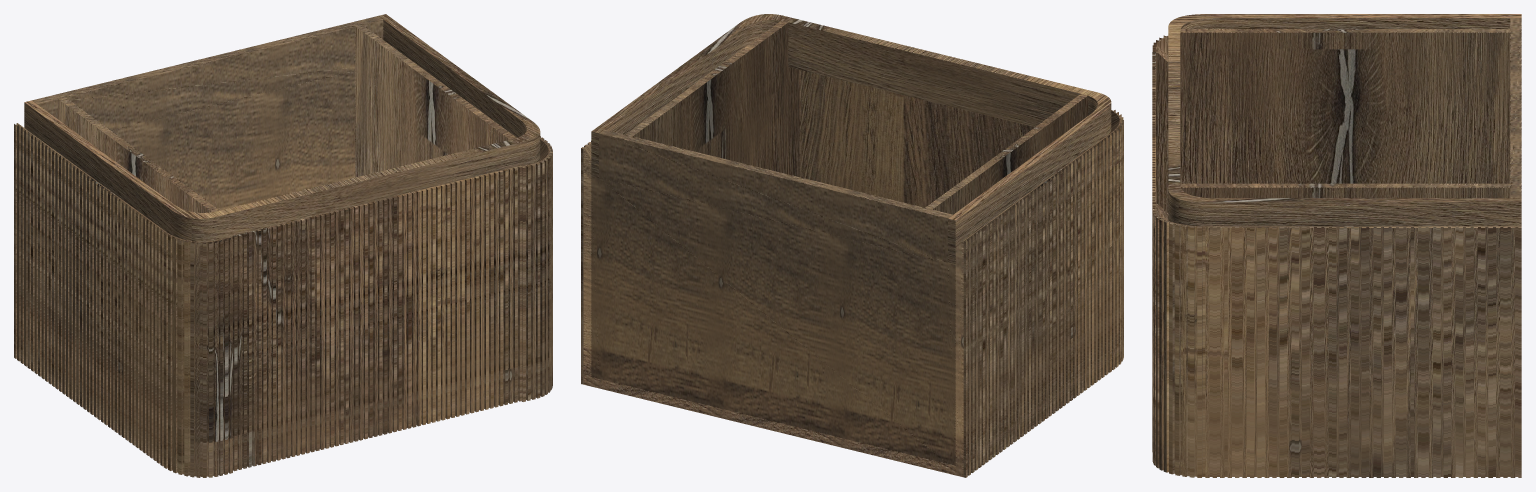
Rendered from closet_wardrobe.glb.
The picture shows the model from 3 angles, left to right: view 1: azimuth 30°, elevation 25°; view 2: azimuth 150°, elevation 25°; view 3: azimuth 270°, elevation 25°; orthographic projection. The views are drawn at different scales.
Visible parts, largest first — view 1: SM_MERGED_StaticMeshActor_16; view 2: SM_MERGED_StaticMeshActor_16; view 3: SM_MERGED_StaticMeshActor_16.
Boxes of the visible parts, bbox=[...] form: SM_MERGED_StaticMeshActor_16: bbox=[14, 14, 552, 477]; SM_MERGED_StaticMeshActor_16: bbox=[581, 14, 1123, 477]; SM_MERGED_StaticMeshActor_16: bbox=[1152, 14, 1521, 477].
Bounding box in the file's own units: 0.632 × 0.4 × 0.4953.
Materials: 2 (2 with a texture image).
